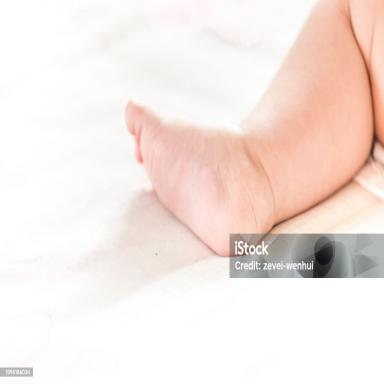normal skin: (125, 1, 384, 256)
